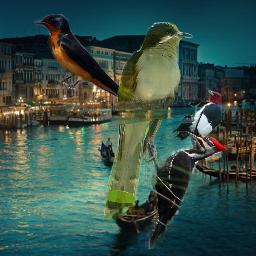Cuckoo: (103, 22, 193, 224)
Swallow: (34, 14, 131, 103)
Woodpecker: (145, 131, 228, 249), (172, 88, 222, 145)
